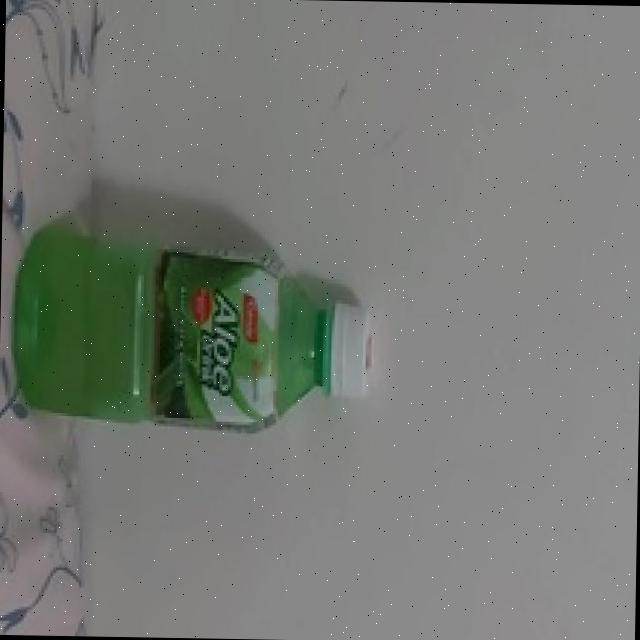bottle: (2, 230, 378, 442)
cap: (315, 293, 382, 406)
label: (150, 232, 275, 444)
